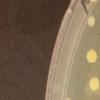yellow: (87, 48, 98, 66), (89, 76, 100, 92), (87, 15, 96, 28)
